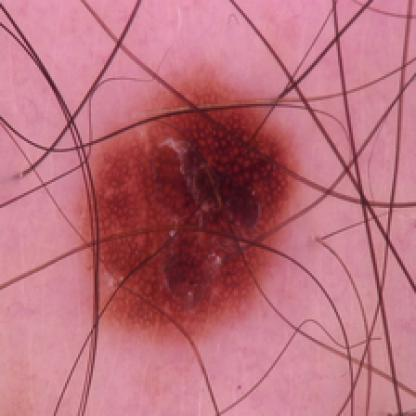benign: (84, 84, 292, 321)
